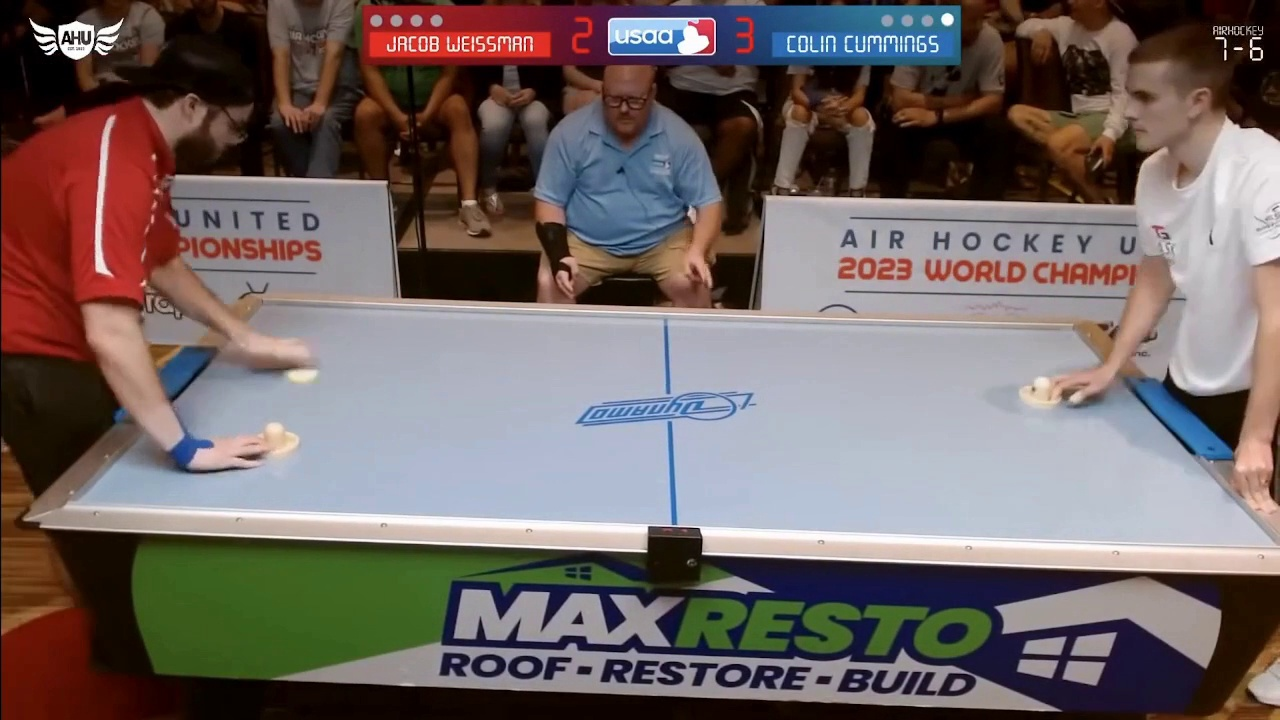player: (1015, 375, 1062, 409), (255, 422, 300, 457)
puck: (286, 366, 326, 386)
table: (72, 297, 1278, 557)
